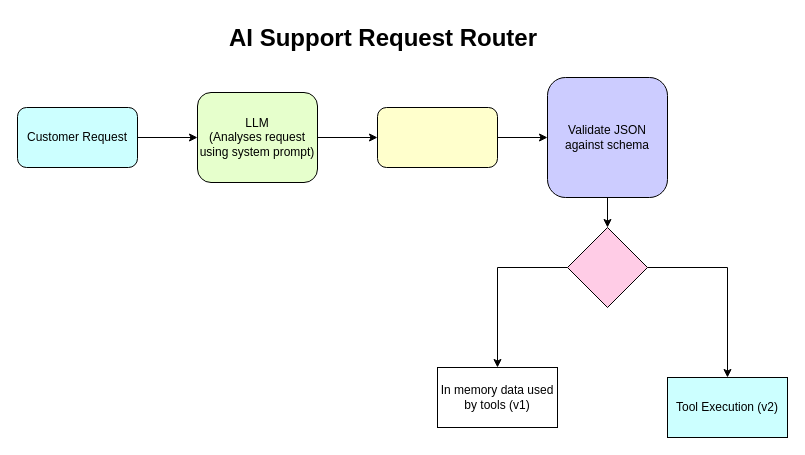
Some shapes in this 805 by 455 pixel diagram are drawn without their labels. The box of each missing label's shape, as (x1, y1, x2, y2) in pixels:
Action Router: (566, 226, 648, 308)
JSON Output: (376, 106, 498, 168)
